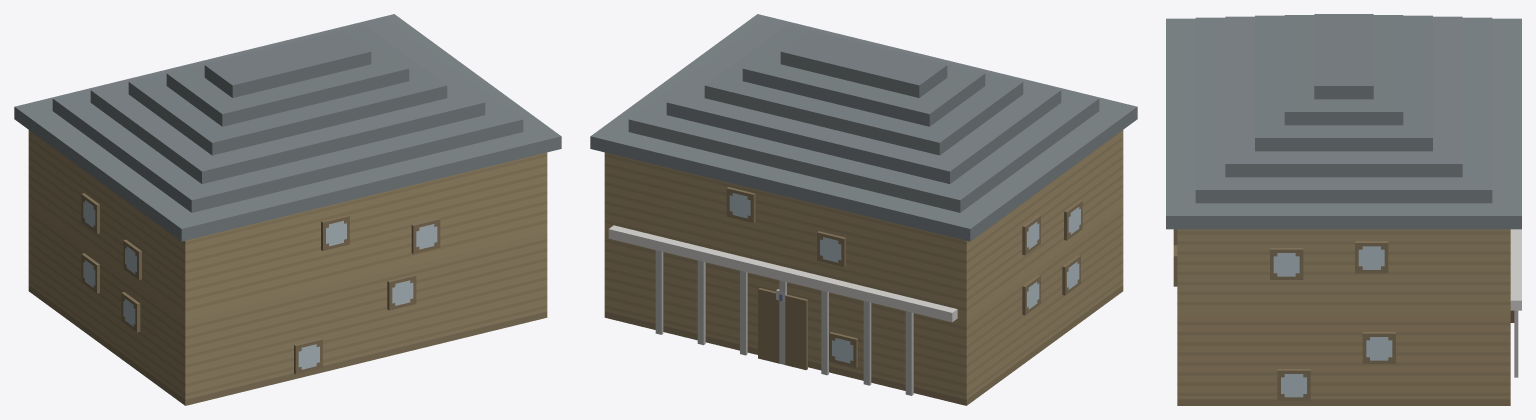
The model's file is casa_gremio_02.glb.
3 renders of one model, left to right at view 1: azimuth 30°, elevation 25°; view 2: azimuth 150°, elevation 25°; view 3: azimuth 270°, elevation 25°, orthographic. The views are drawn at different scales.
Parts seen in each view (by area): view 1: casa_gremio_02; view 2: casa_gremio_02; view 3: casa_gremio_02.
Boxes of the visible parts, x1,y1,x2,y2 form: casa_gremio_02: [14, 14, 561, 405]; casa_gremio_02: [590, 14, 1137, 405]; casa_gremio_02: [1166, 14, 1521, 405].
Bounding box in the file's own units: 12.6 × 7.8 × 9.6.
